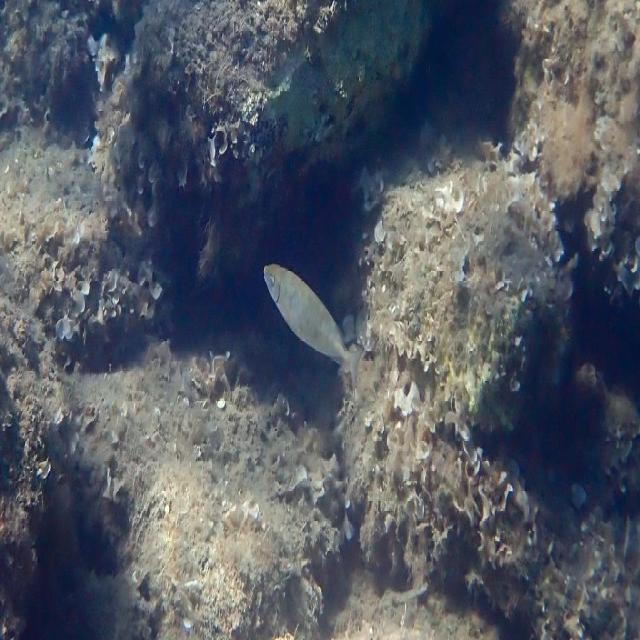Sokar Baligi: (258, 244, 373, 410)
